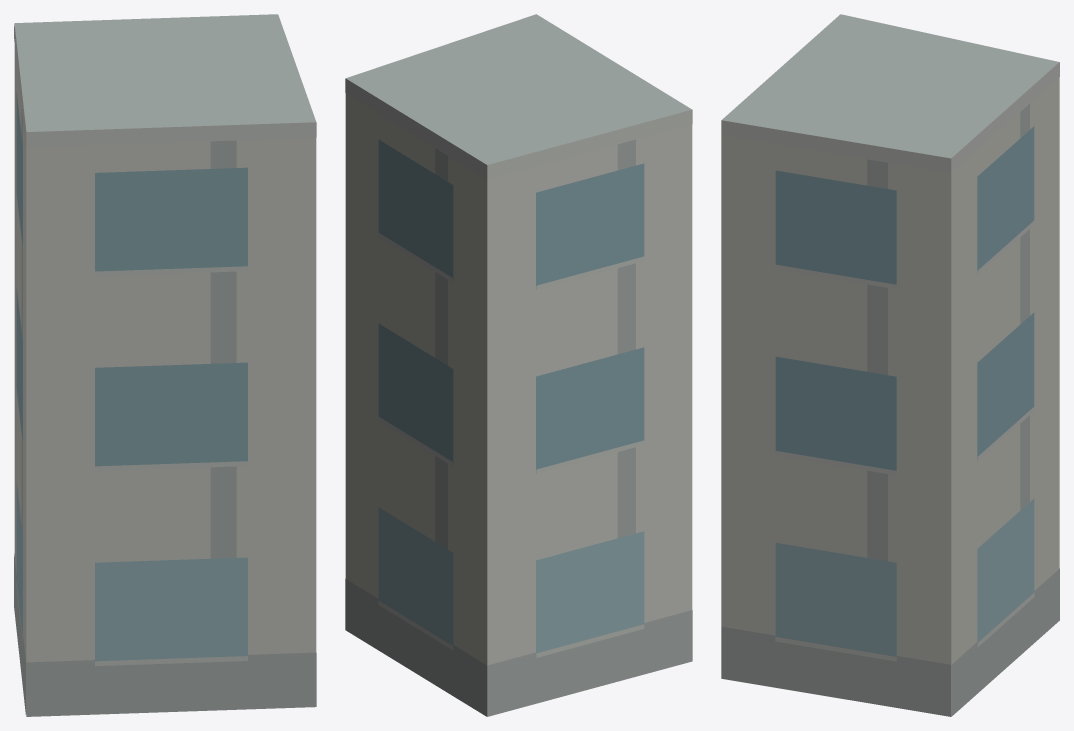
Rendered from survey-upis-32985331.glb.
3 renders of one model, left to right at view 1: azimuth 30°, elevation 25°; view 2: azimuth 150°, elevation 25°; view 3: azimuth 270°, elevation 25°, orthographic. The views are drawn at different scales.
Parts seen in each view (by area): view 1: survey-upis-32985331.tmp; view 2: survey-upis-32985331.tmp; view 3: survey-upis-32985331.tmp.
Boxes of the visible parts, x1,y1,x2,y2 form: survey-upis-32985331.tmp: [14, 14, 316, 716]; survey-upis-32985331.tmp: [345, 14, 692, 716]; survey-upis-32985331.tmp: [721, 14, 1059, 716].
Bounding box in the file's own units: 5.08 × 9.15 × 5.03.
